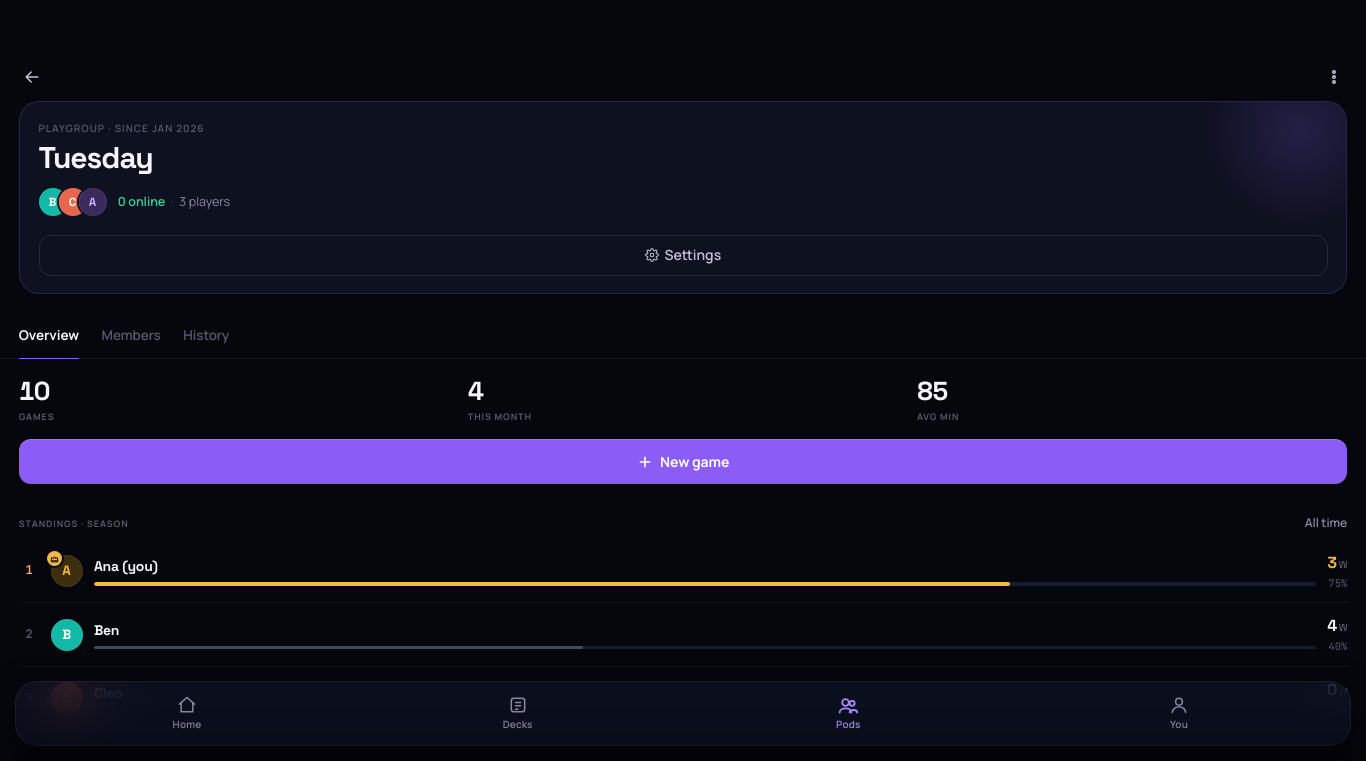
Scenario: PlaygroupDetailView › members tab shows the same win rate and threat per member
What coordinates should you click on to do the following:
click the button "Members"
I would click on:
 (131, 336)
Its box is 102,313 -> 161,358.
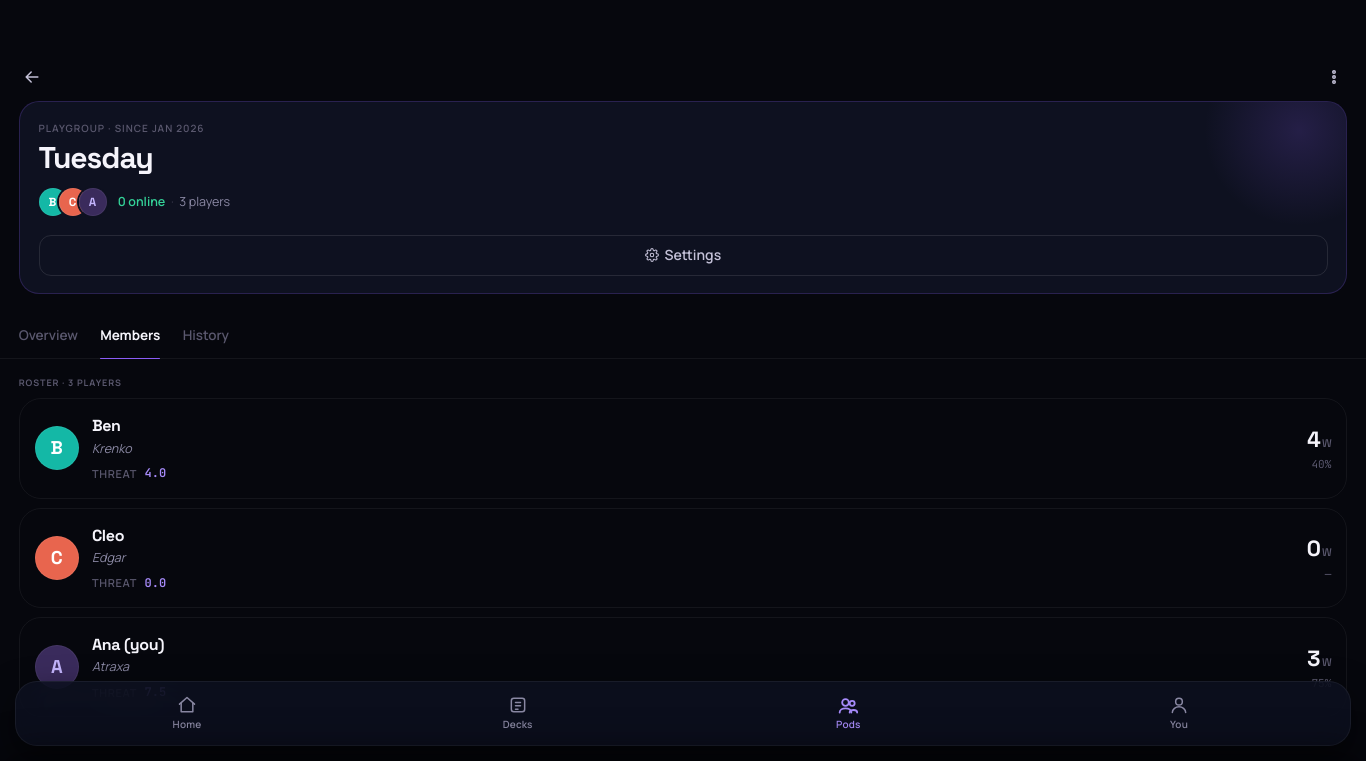
Expected: the element showing "A Ana (you) Atraxa Threat 7.5 3W 75%" is shown, 19,617 -> 1347,717
Expected: the element showing "B Ben Krenko Threat 4.0 4W 40%" is shown, 19,398 -> 1347,498
Expected: the element showing "C Cleo Edgar Threat 0.0 0W —" is shown, 19,508 -> 1347,608
